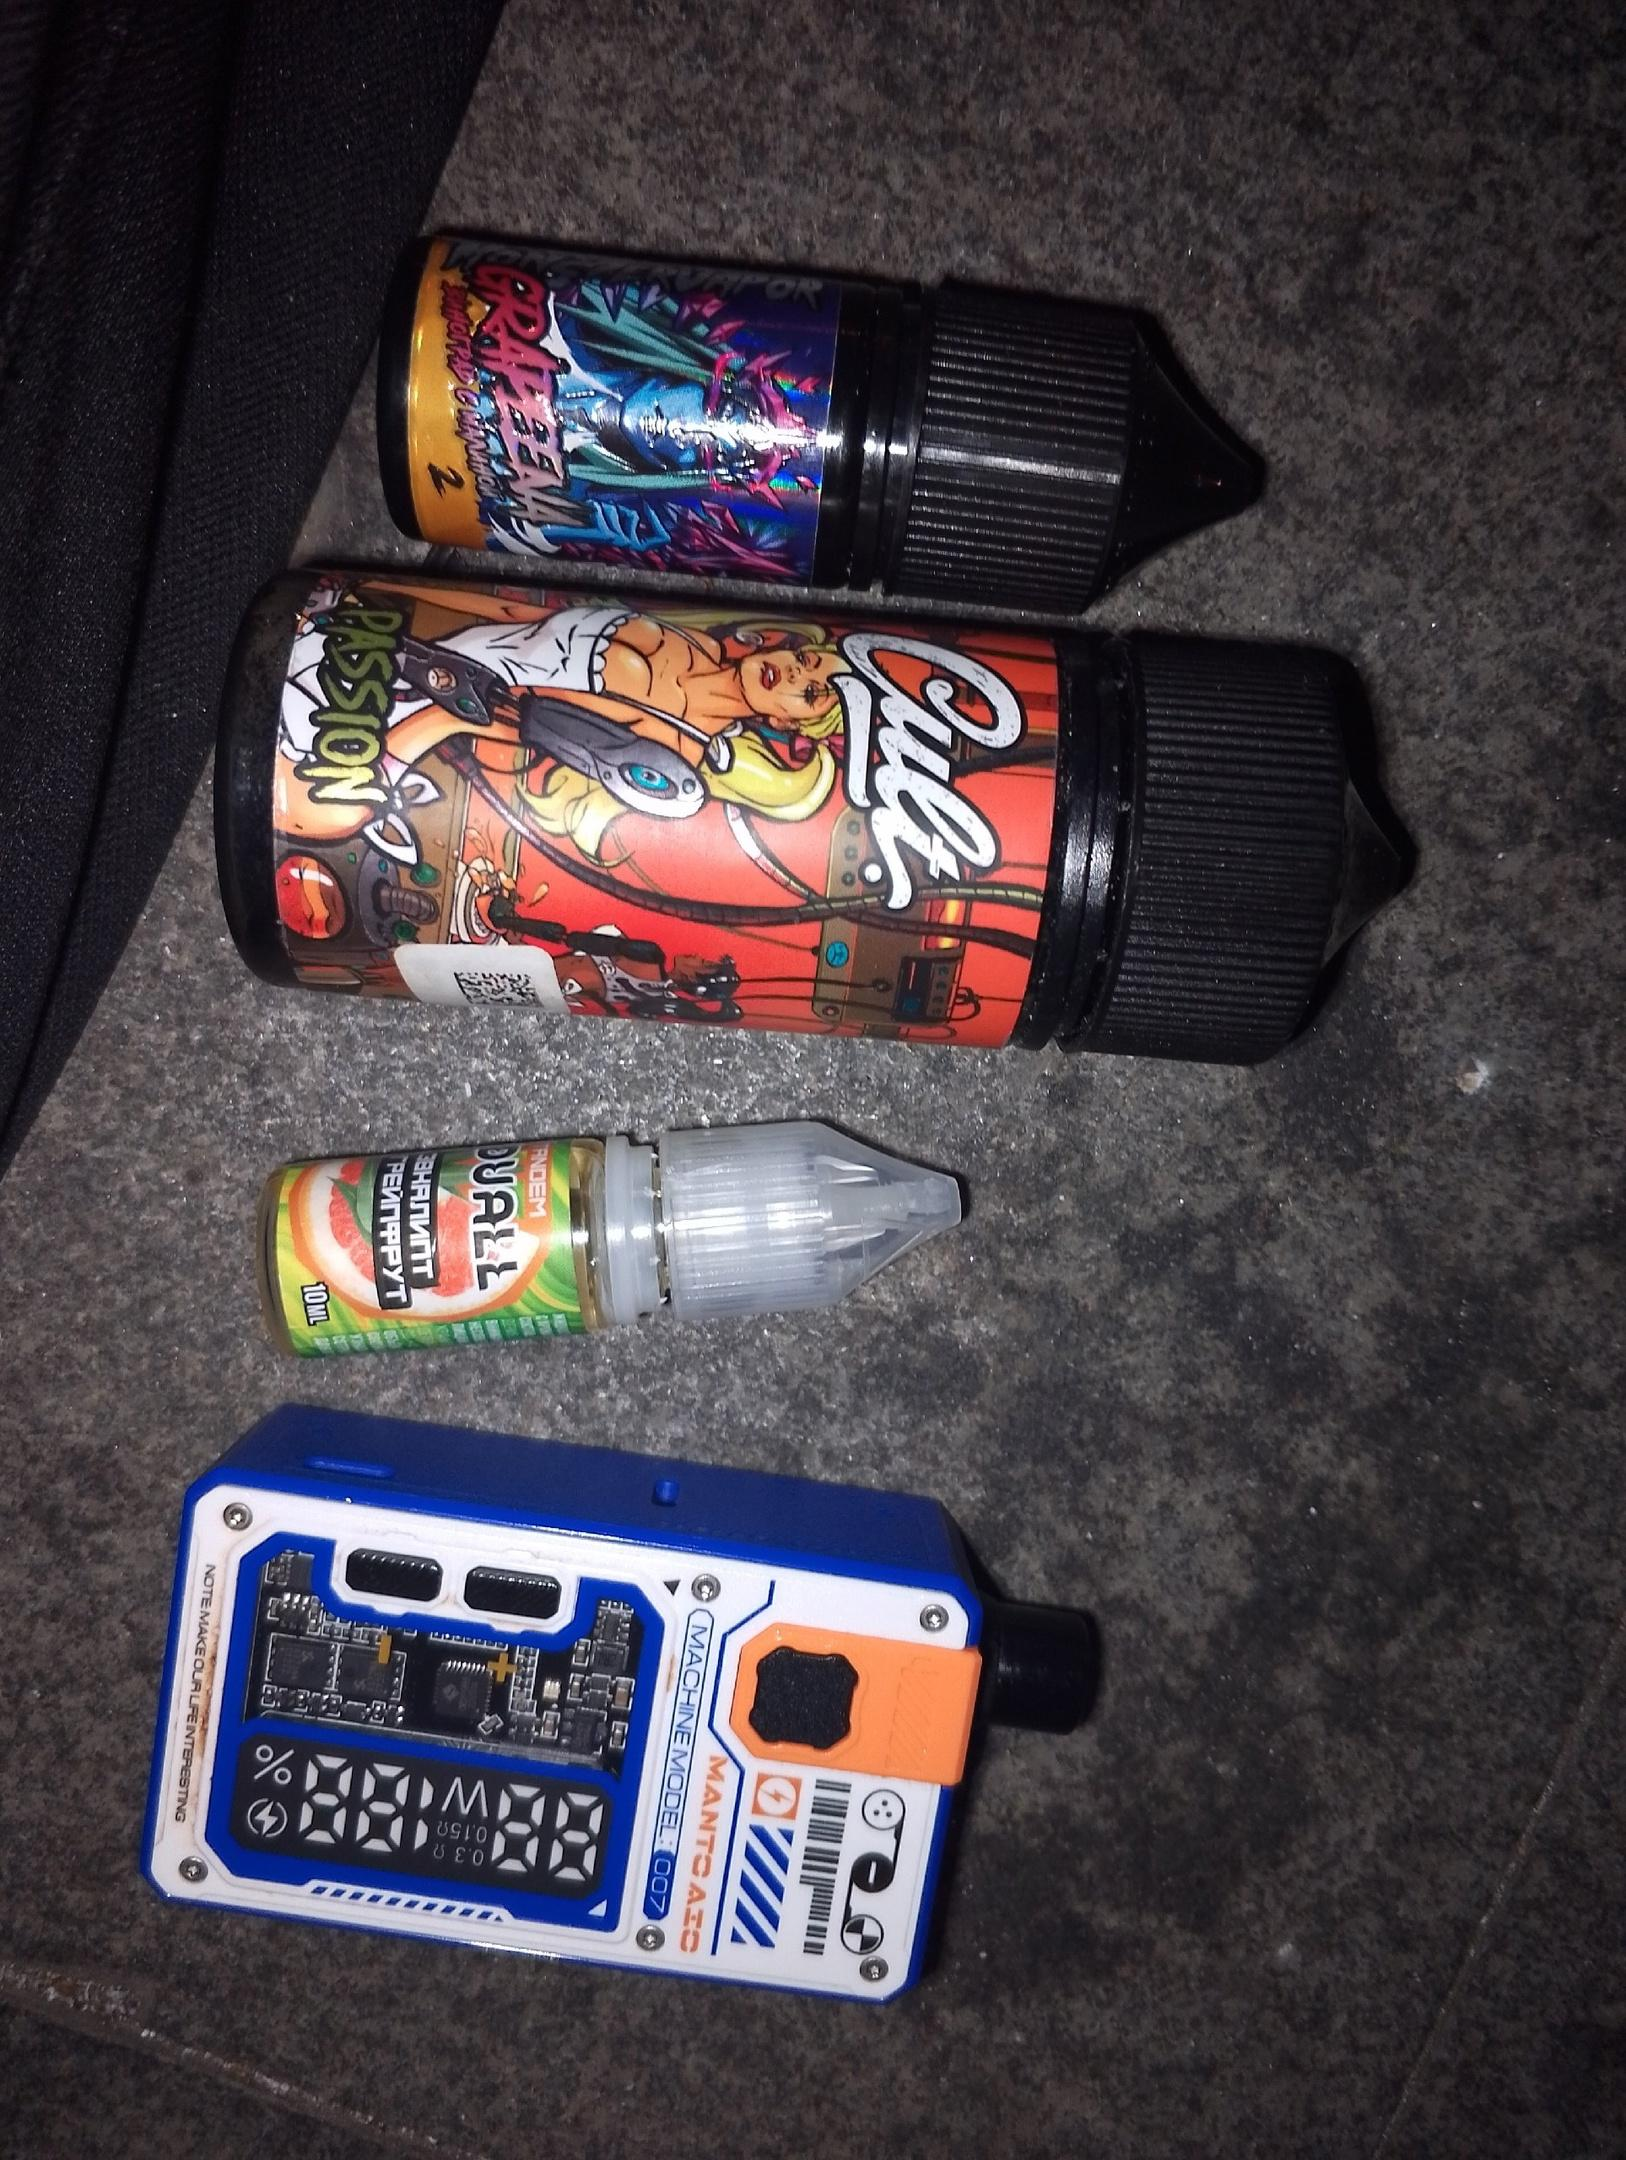Vape: (142, 1404, 1098, 2001)
